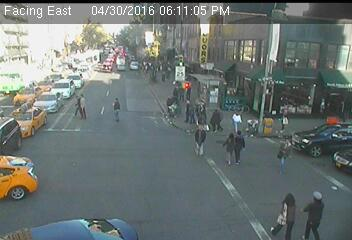neg: (5, 158, 41, 206), (313, 131, 343, 170), (34, 86, 62, 124), (81, 195, 107, 231), (138, 99, 163, 133), (205, 36, 229, 68), (149, 129, 172, 161), (324, 39, 347, 70), (306, 39, 329, 68), (273, 44, 295, 73), (144, 38, 165, 66), (120, 58, 141, 85), (253, 88, 272, 114), (234, 37, 253, 62), (40, 46, 59, 71), (166, 24, 185, 48), (7, 38, 25, 62), (64, 64, 82, 88), (168, 60, 184, 82), (140, 73, 156, 95), (8, 91, 24, 112), (90, 56, 106, 76), (256, 115, 271, 135), (62, 32, 77, 52), (119, 27, 132, 44), (5, 69, 18, 86), (194, 40, 206, 56)
pos: (296, 188, 333, 237), (274, 136, 303, 174), (228, 130, 255, 165), (217, 131, 243, 165), (189, 124, 214, 158), (72, 93, 93, 120), (207, 109, 225, 133), (178, 98, 196, 122), (109, 98, 126, 121), (335, 99, 351, 123), (228, 109, 245, 131), (315, 98, 332, 120)
